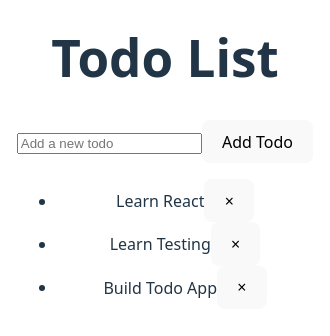
Test case: TodoList › adds a new todo
Type "New Todo" into the field with placeholder "Add a new todo".
click(109, 143); type("New Todo")  # box 17,133 -> 202,154
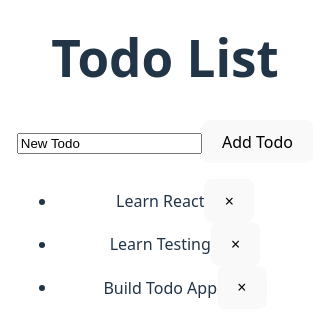
Click the button "Add Todo".
click(258, 142)  # box 202,120 -> 313,163
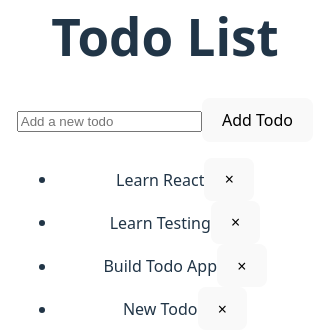
Now the list item "New Todo" is shown, box 123,298 -> 198,320
